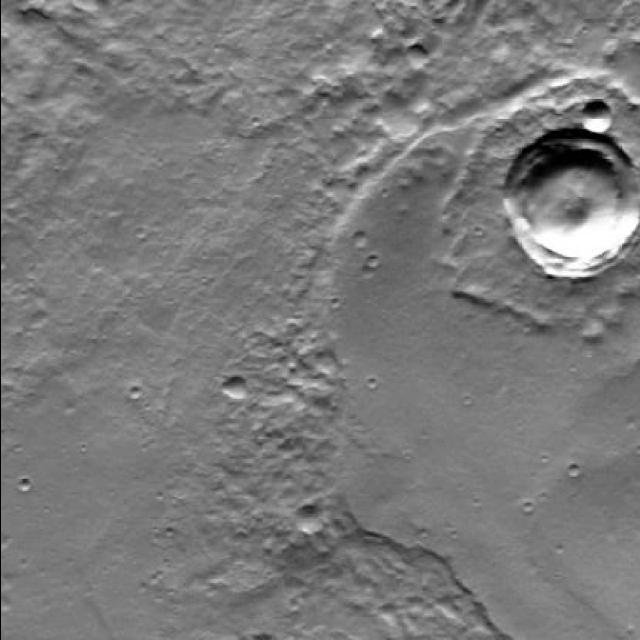crater: (501, 128, 640, 277), (578, 102, 610, 134), (292, 514, 320, 543), (224, 377, 247, 401), (358, 225, 373, 242)
